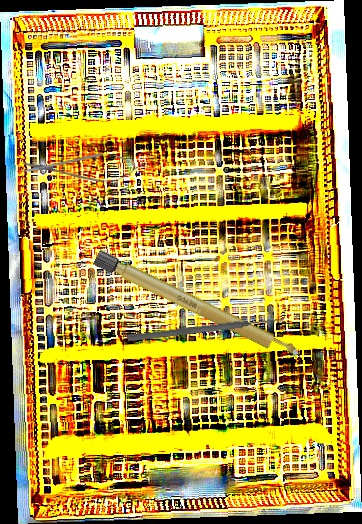Micro Scissor: (21, 153, 138, 182)
Pusher: (126, 314, 286, 344)
Scalpel Handle: (92, 249, 304, 365)
